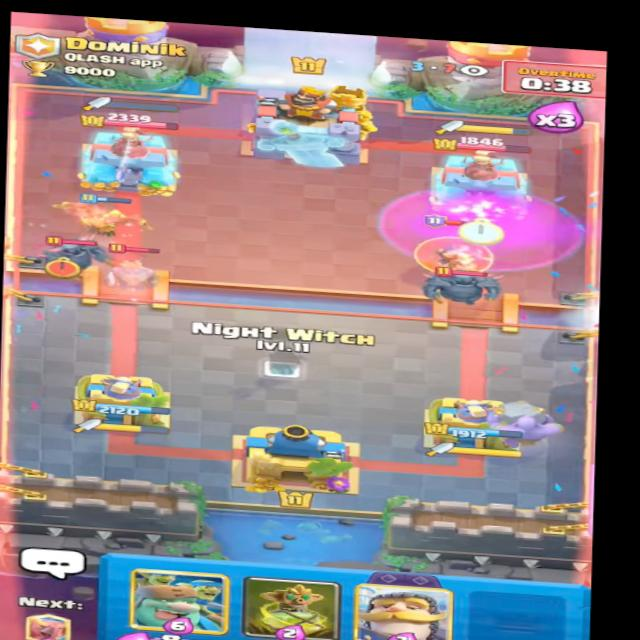Evowizard: (406, 210, 505, 276)
Pekka: (33, 227, 117, 282), (417, 259, 504, 311)
Royalghost: (93, 239, 174, 301)
